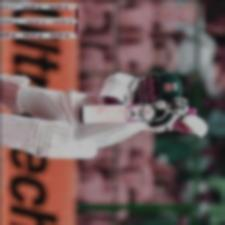batsman: (0, 48, 212, 170)
